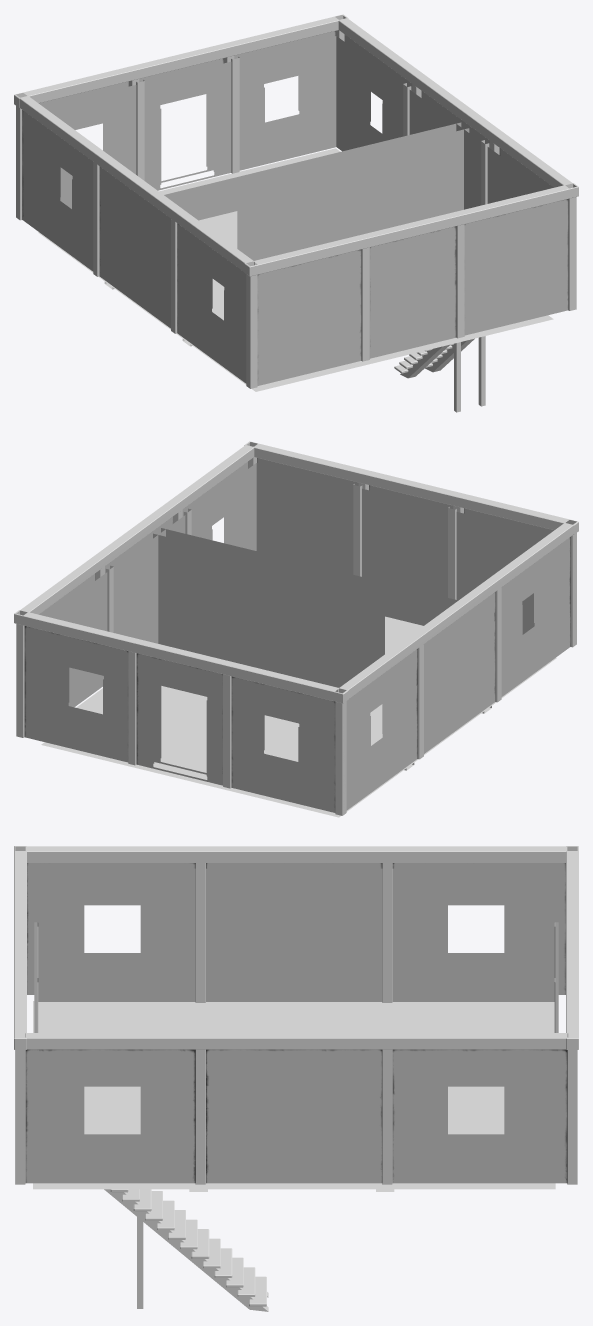
The model's file is FloorWithBasement.fbx.
3 views of the same model, one above another, from view 1: azimuth 30°, elevation 25°; view 2: azimuth 150°, elevation 25°; view 3: azimuth 270°, elevation 25° (orthographic). The views are drawn at different scales.
Parts seen in each view (by area): view 1: H_A_Wall, H_A_Wood, H_A_Wall.001, Roof_Floor, Stairs; view 2: H_A_Wall, H_A_Wood, H_A_Wall.001, Roof_Floor; view 3: H_A_Wall, H_A_Wood, Roof_Floor, Stairs.
Part boxes in pixels (bbox=[...]): H_A_Wall: bbox=[22, 31, 568, 385]; H_A_Wood: bbox=[14, 14, 578, 388]; H_A_Wall.001: bbox=[164, 122, 469, 260]; Roof_Floor: bbox=[38, 148, 553, 391]; Stairs: bbox=[394, 336, 485, 412]; H_A_Wall: bbox=[24, 458, 570, 812]; H_A_Wood: bbox=[14, 441, 578, 815]; H_A_Wall.001: bbox=[153, 528, 458, 687]; Roof_Floor: bbox=[41, 616, 556, 817]; H_A_Wall: bbox=[25, 863, 567, 1183]; H_A_Wood: bbox=[14, 846, 578, 1184]; Roof_Floor: bbox=[33, 1001, 555, 1191]; Stairs: bbox=[104, 1189, 268, 1311].
Bounding box in the file's own units: 922 × 662 × 1142.
